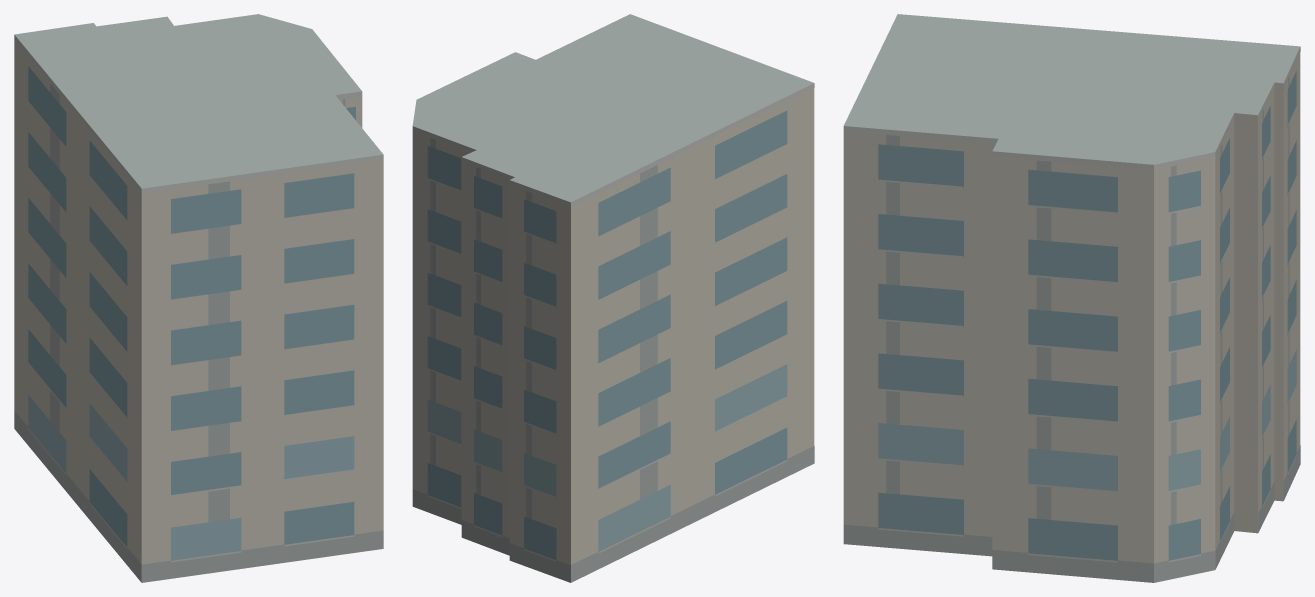
The model's file is survey-upis-33043914.glb.
3 renders of one model, left to right at view 1: azimuth 30°, elevation 25°; view 2: azimuth 150°, elevation 25°; view 3: azimuth 270°, elevation 25°, orthographic. The views are drawn at different scales.
Parts seen in each view (by area): view 1: survey-upis-33043914.tmp; view 2: survey-upis-33043914.tmp; view 3: survey-upis-33043914.tmp.
Boxes of the visible parts, box(x1,y1,x2,y2) form: survey-upis-33043914.tmp: box(14, 14, 383, 582); survey-upis-33043914.tmp: box(412, 14, 814, 582); survey-upis-33043914.tmp: box(843, 14, 1300, 582).
Bounding box in the file's own units: 14.48 × 18.7 × 18.53.
